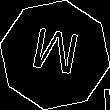M_S: (28, 26, 82, 84)
